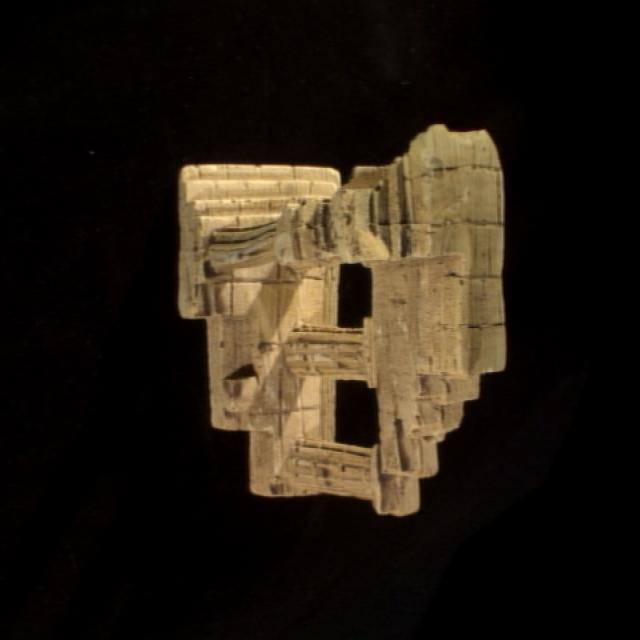Instance-Segmentation: (180, 125, 504, 513)
